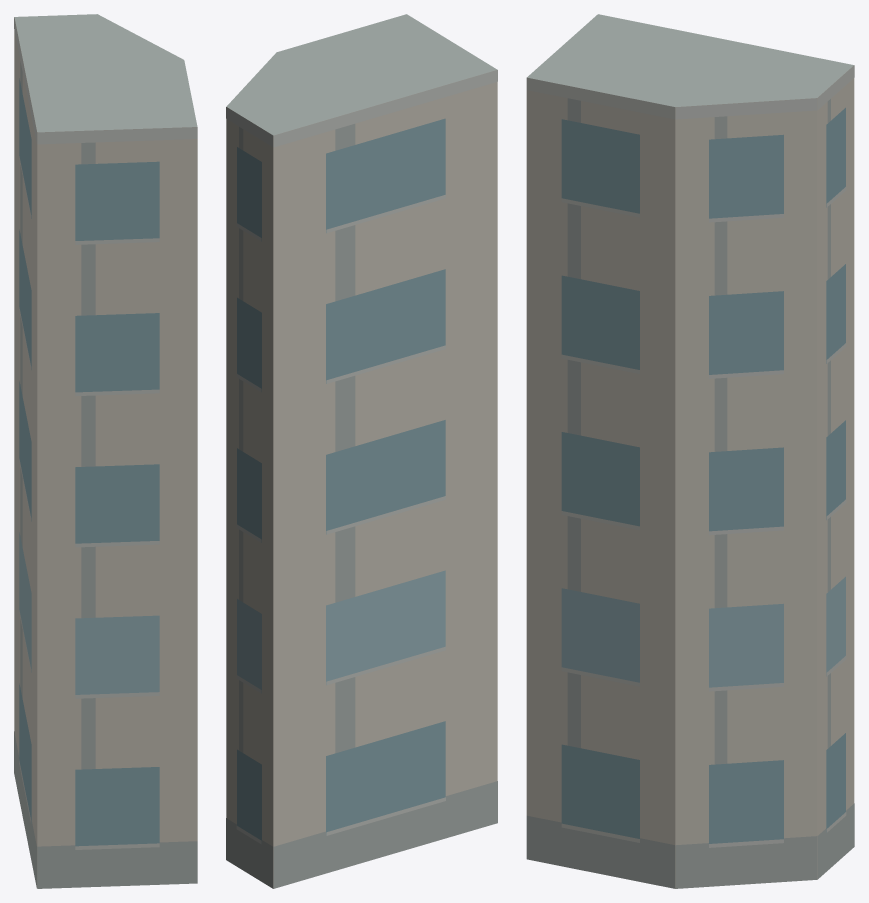
The model's file is survey-upis-32897708.glb.
3 views of the same model, side by side, from view 1: azimuth 30°, elevation 25°; view 2: azimuth 150°, elevation 25°; view 3: azimuth 270°, elevation 25° (orthographic). The views are drawn at different scales.
Parts seen in each view (by area): view 1: survey-upis-32897708.tmp; view 2: survey-upis-32897708.tmp; view 3: survey-upis-32897708.tmp.
Part boxes in pixels (<box>): survey-upis-32897708.tmp: <box>14,14,197,888</box>; survey-upis-32897708.tmp: <box>226,14,497,888</box>; survey-upis-32897708.tmp: <box>526,14,854,888</box>.
Bounding box in the file's own units: 3.9 × 15.25 × 5.8.
